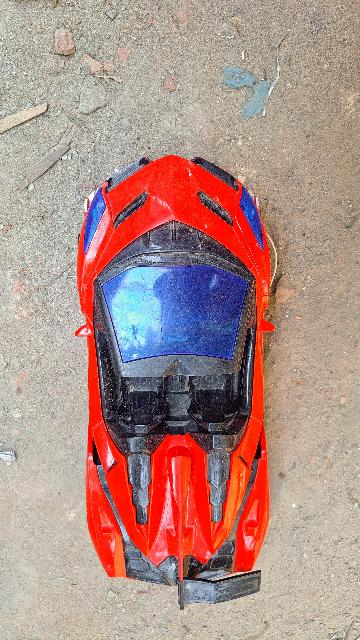hardplastic: (81, 147, 284, 607)
